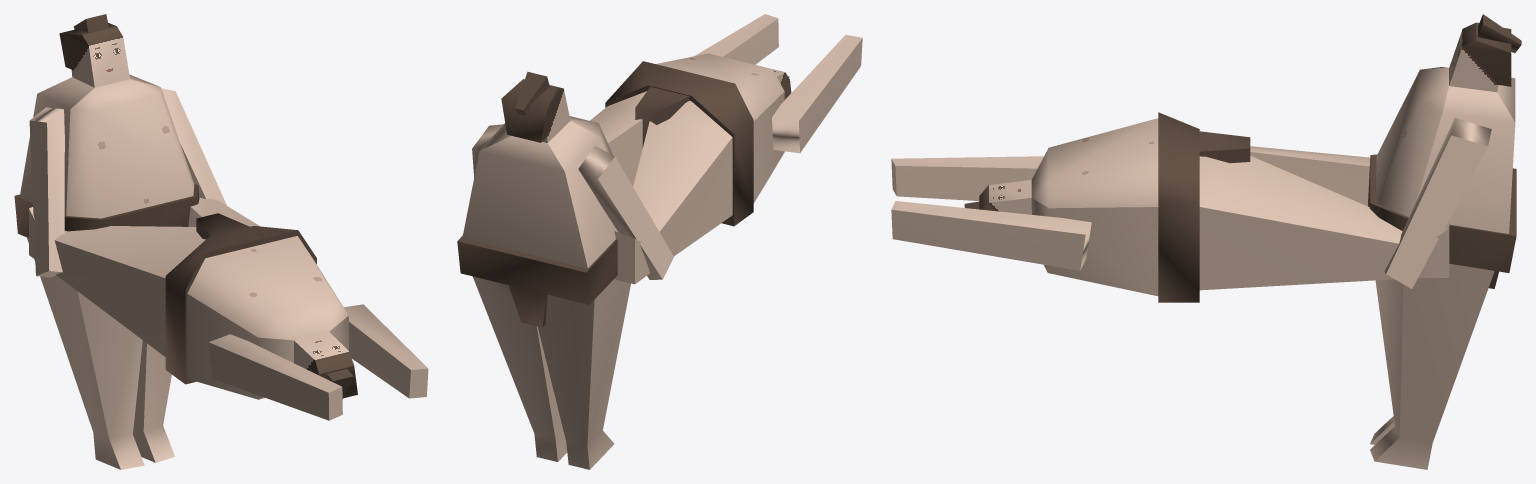
The model's file is 023e_Sumo_Bout.glb.
3 views of the same model, side by side, from view 1: azimuth 30°, elevation 25°; view 2: azimuth 150°, elevation 25°; view 3: azimuth 270°, elevation 25° (orthographic). The views are drawn at different scales.
Parts seen in each view (by area): view 1: part_0; view 2: part_0; view 3: part_0.
Boxes of the visible parts, x1,y1,x2,y2 form: part_0: [14, 14, 428, 469]; part_0: [457, 14, 862, 469]; part_0: [891, 14, 1521, 469].
Size of the model in its own units: 1.25 by 2.65 by 3.46.
1 material, 1 textured.
